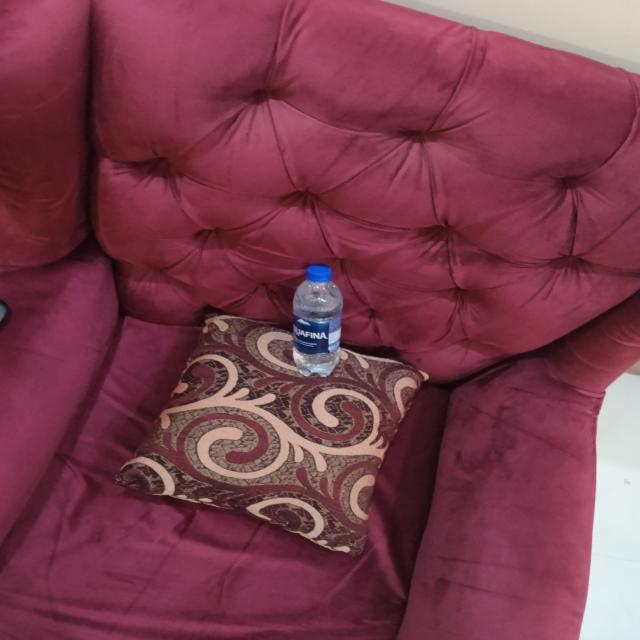Plastic: (298, 262, 340, 376)
